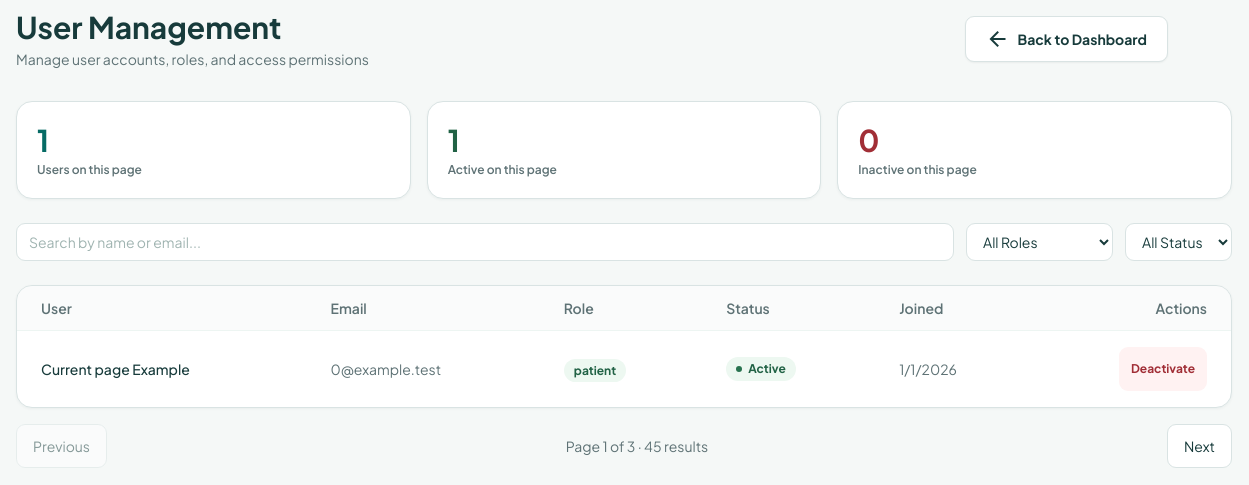
Test case: pages through server results and debounces a search across all users
Expected: the text "Current page Example" is shown, [17,330,306,407]
Click the button with aria-label "next page". click: (1200, 446)
box: [1167,424,1232,468]
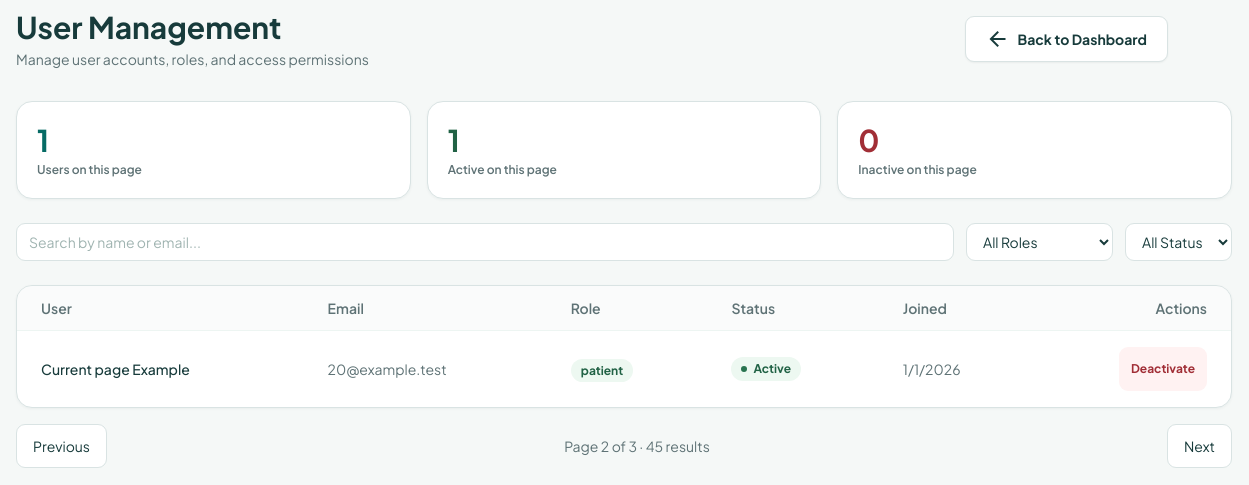
Type "Be" into the field with placeholder "Search by name or email...". click: (485, 242)
box: [16,223,954,261]
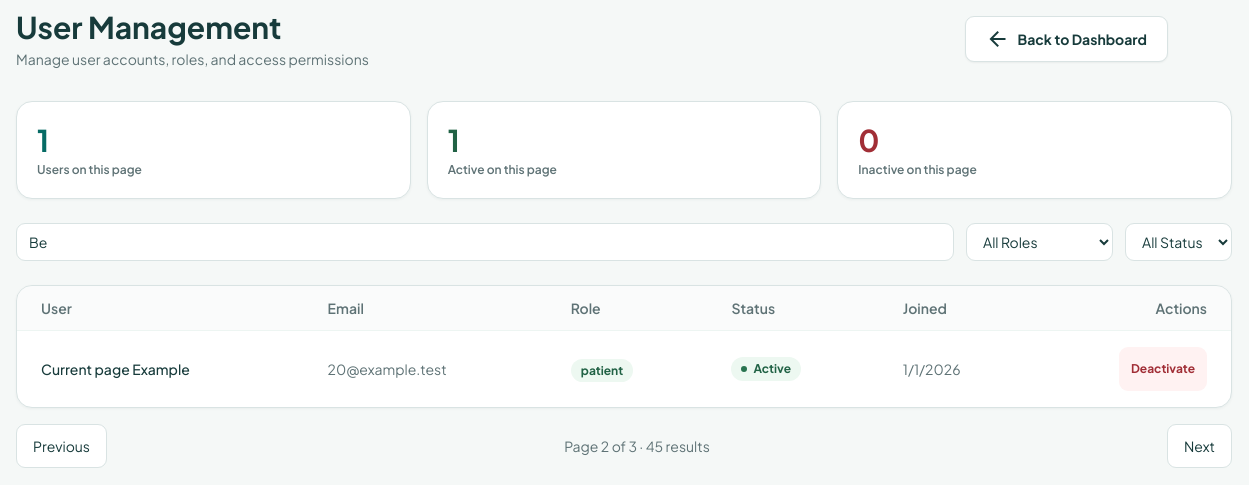
Replace the text in the field with placeholder "Search by name or email..." with "Beyond". click: (485, 242)
box: [16,223,954,261]
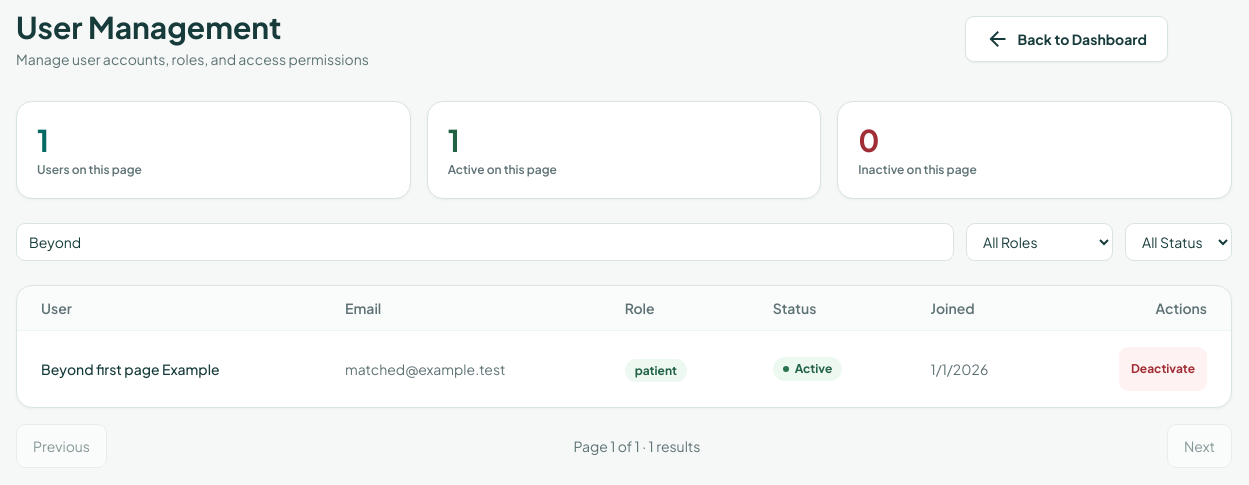
Now the text "Beyond first page Example" is shown, box [17,330,321,407]
